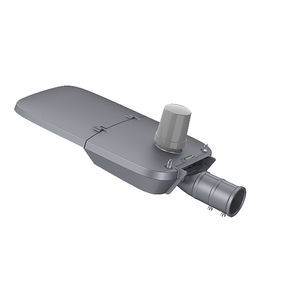Top_Street_Light: (5, 76, 263, 227)
